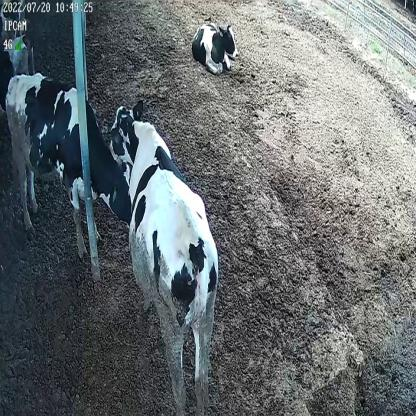cow: (104, 96, 221, 412), (4, 75, 132, 259), (190, 20, 240, 75)
